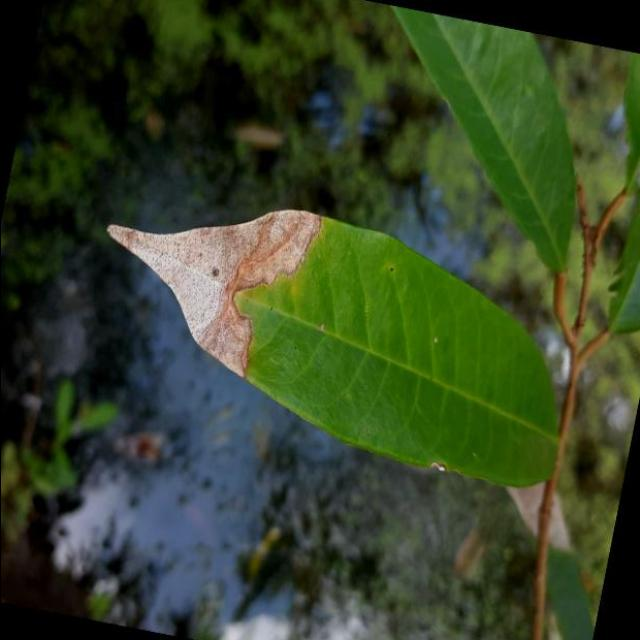Leaf Blight: (62, 167, 602, 503)
